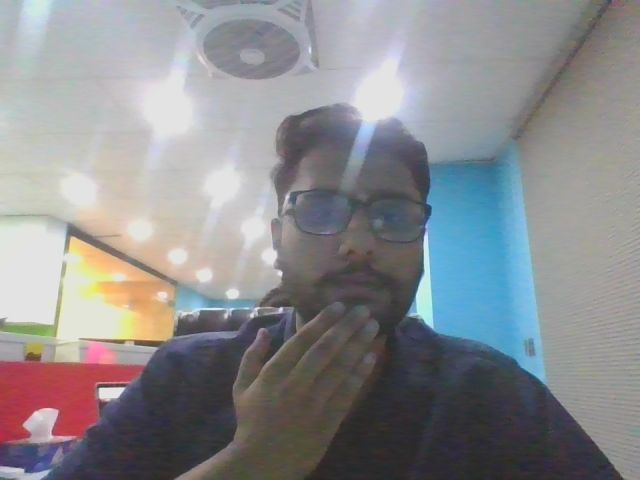thanks: (221, 292, 428, 472)
